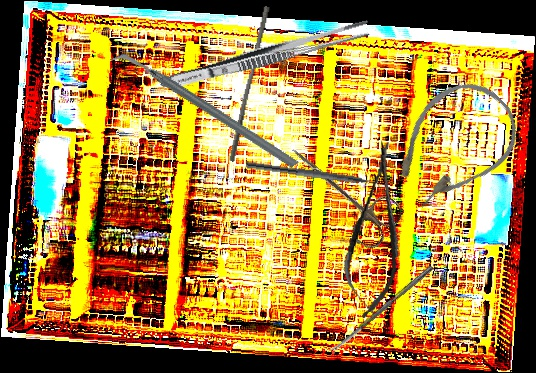Cannula: (372, 64, 534, 226)
Chopper: (109, 3, 300, 219), (243, 161, 390, 195)
Dressing Forceps: (157, 15, 374, 97)
Iris Scissors: (274, 131, 407, 253)
Micro Scissor: (336, 138, 416, 322)
Pusher: (228, 4, 271, 164)
Surgical Spoon: (326, 264, 435, 356)
